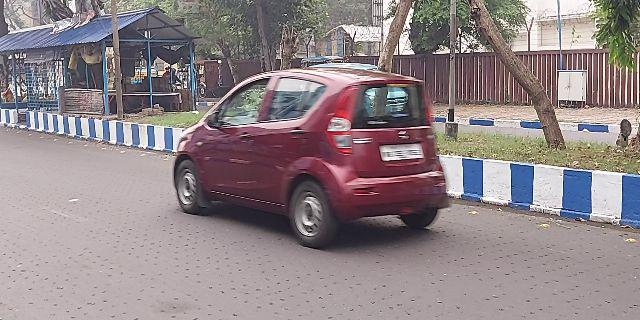Car: (174, 58, 458, 257)
